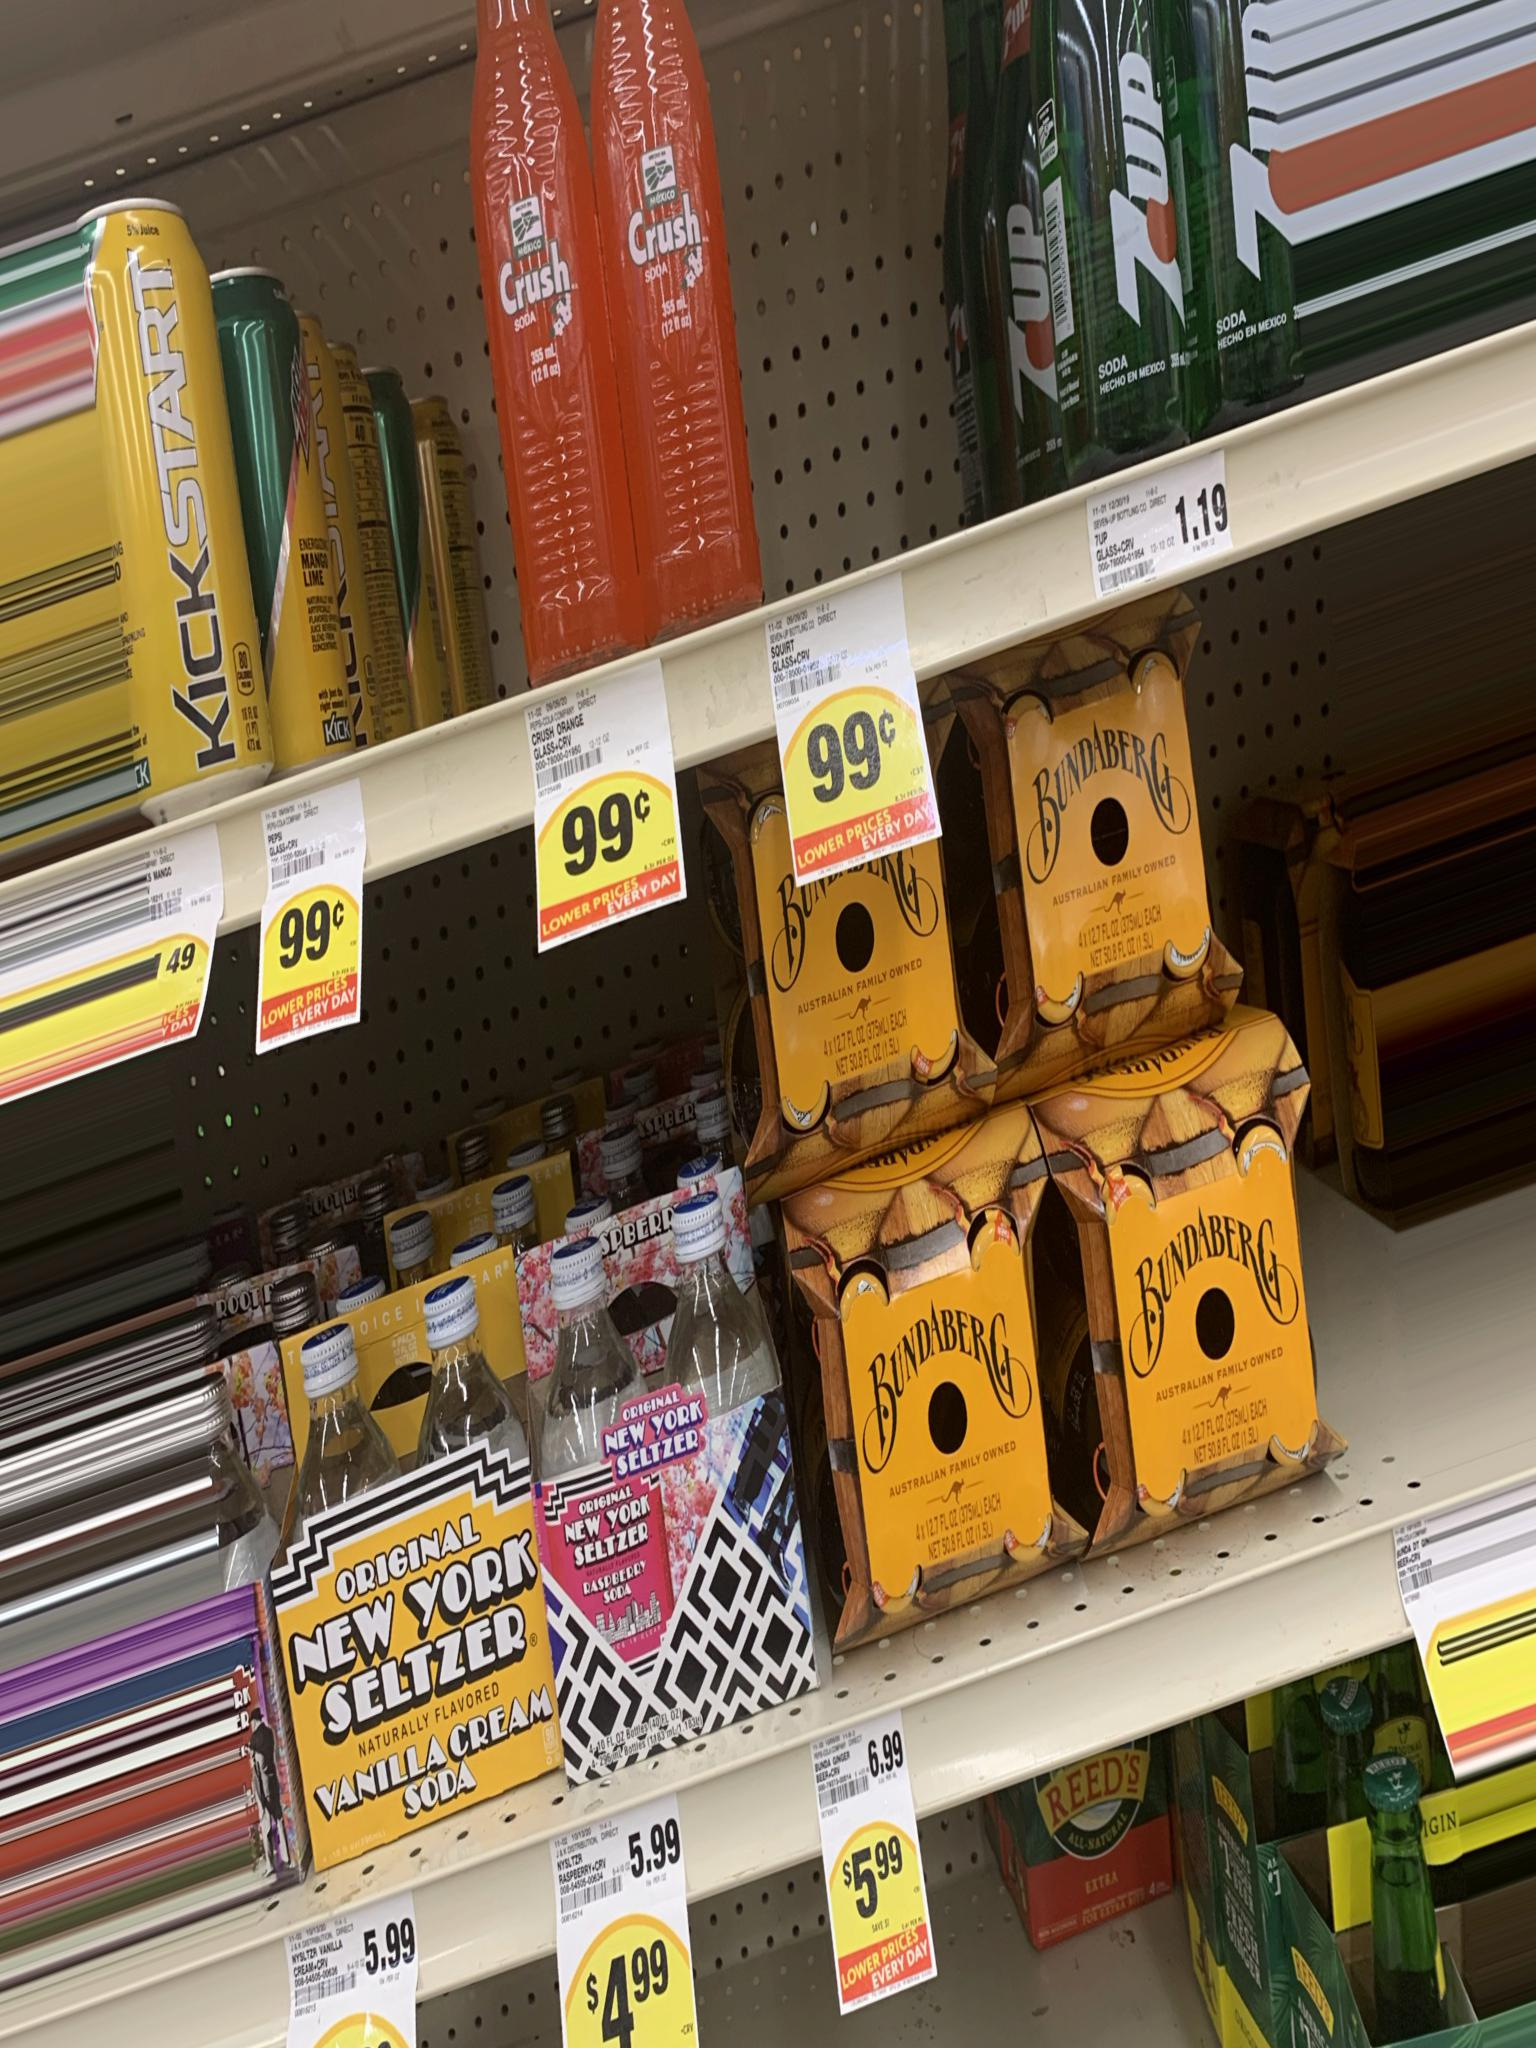soda: (374, 15, 620, 681), (971, 23, 1270, 445)
